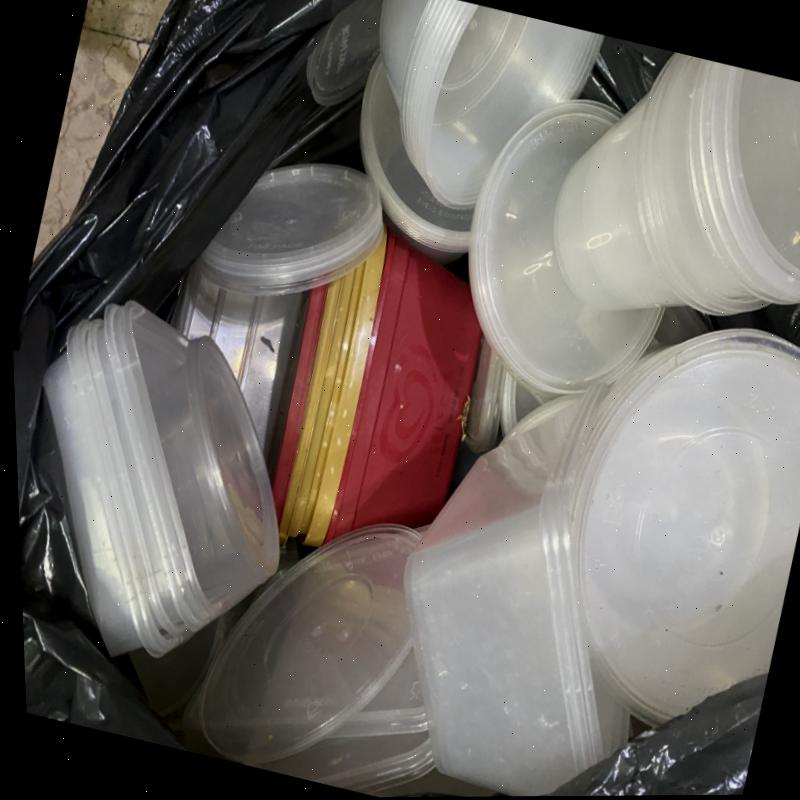plastic container: (565, 327, 800, 729), (404, 384, 631, 796), (43, 298, 282, 658), (274, 226, 482, 547), (553, 51, 800, 315), (468, 97, 665, 394), (379, 0, 606, 208)
